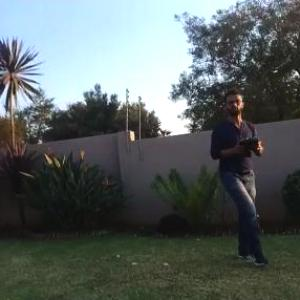follow: (208, 80, 278, 272)
